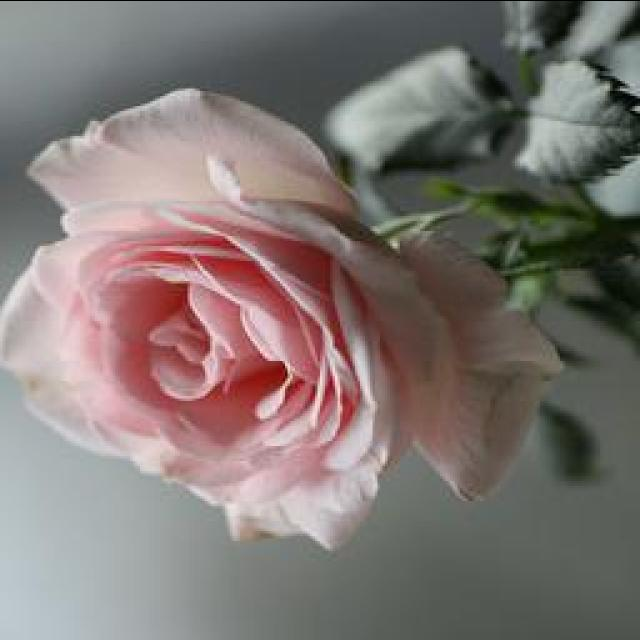rose: (19, 72, 461, 563)
